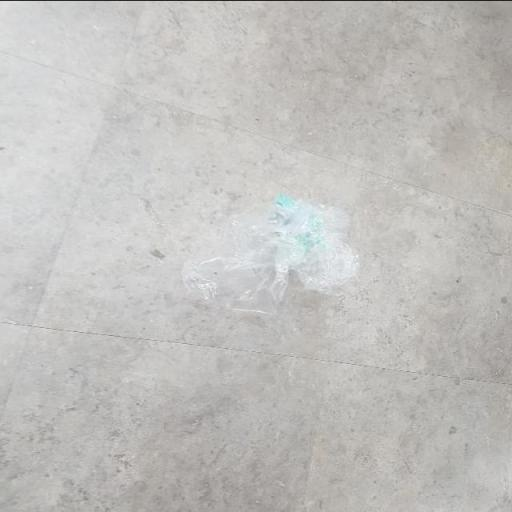plastic-bag: (180, 193, 366, 318)
